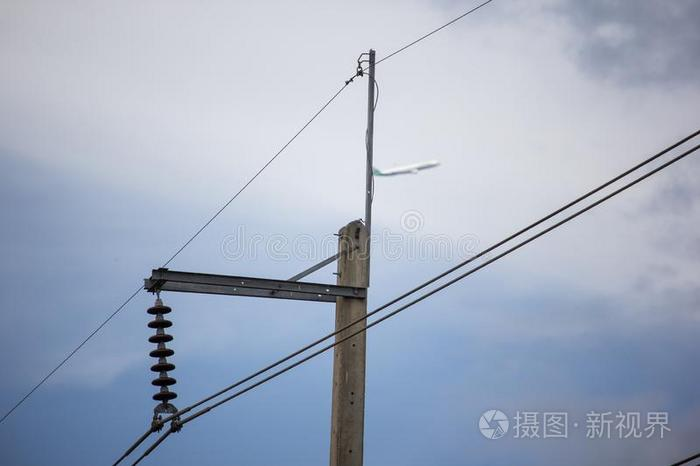insulator: (143, 304, 180, 402)
